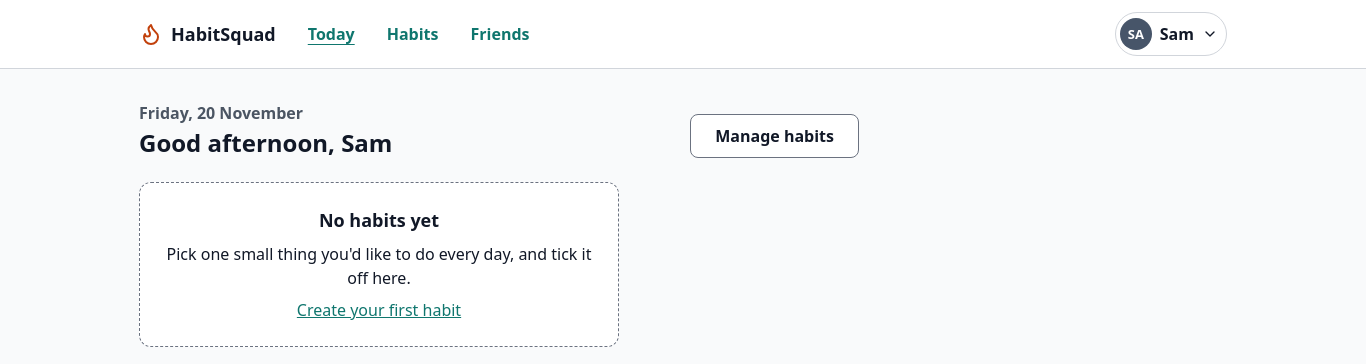
AccountMenu (header) › a click outside closes it
Click the button with aria-label "Account menu for". click: (1171, 34)
box: left=1115, top=12, right=1227, bottom=56
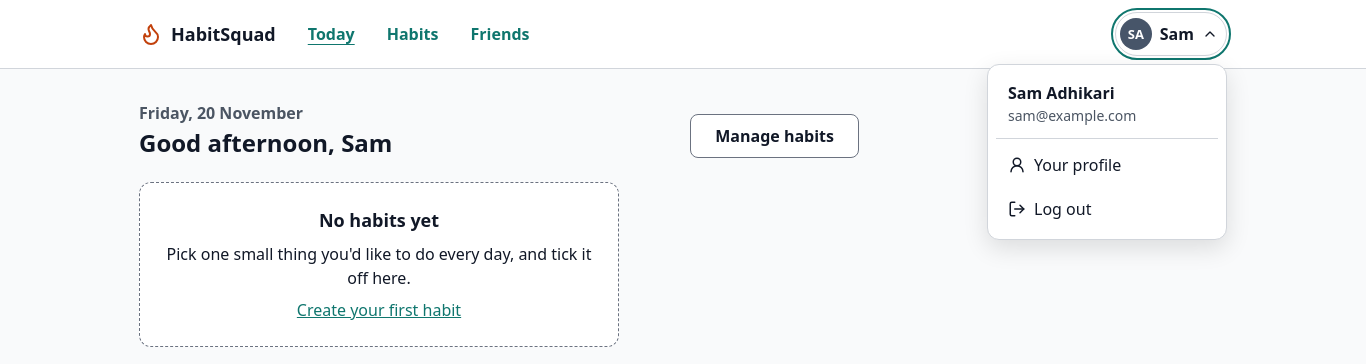
Click the heading "Good afternoon, Sam". click: (266, 143)
box: left=139, top=129, right=392, bottom=158
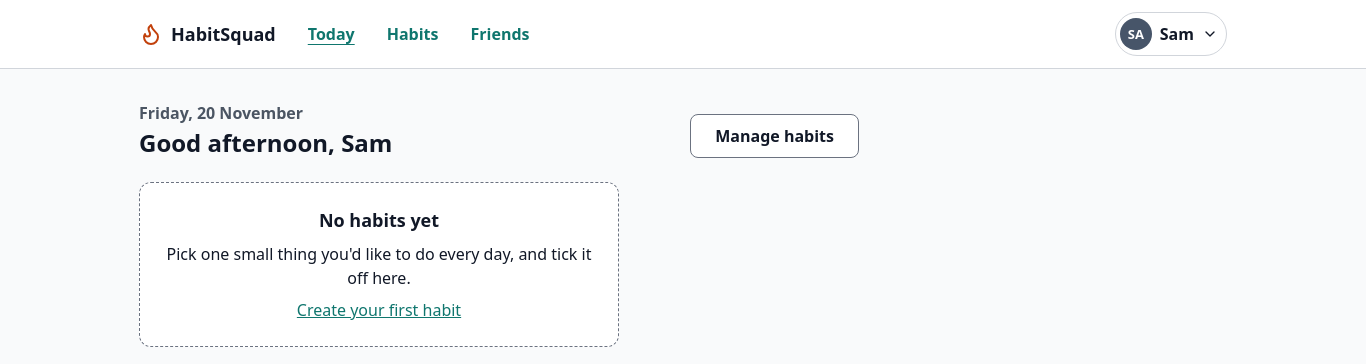
Expected: the button with aria-label "Account menu for" is collapsed, left=1115, top=12, right=1227, bottom=56
